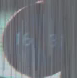No waiting: (5, 6, 67, 68)
